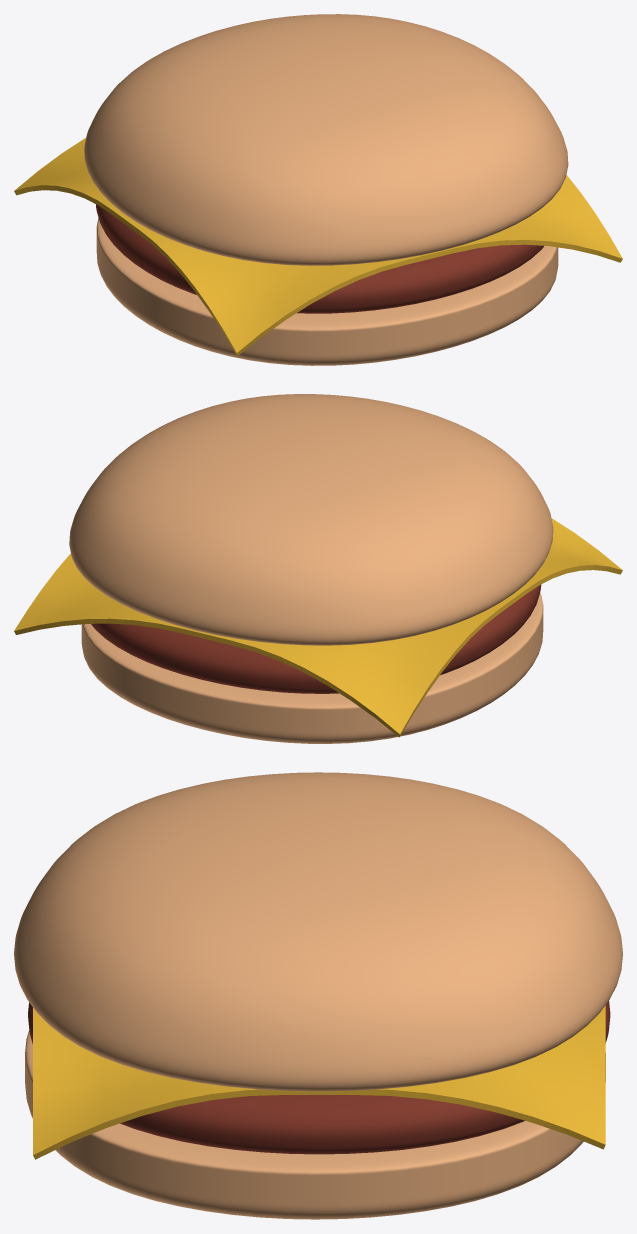
File: burger.glb
The picture shows the model from 3 angles, top to bottom: view 1: azimuth 30°, elevation 25°; view 2: azimuth 150°, elevation 25°; view 3: azimuth 270°, elevation 25°; orthographic projection. The views are drawn at different scales.
Parts seen in each view (by area): view 1: Cube.002, Cube, Plane, Cube.001; view 2: Cube.002, Cube, Plane, Cube.001; view 3: Cube.002, Cube, Plane, Cube.001.
Boxes of the visible parts, x1,y1,x2,y2 form: Cube.002: (84, 14, 568, 265); Cube: (96, 218, 558, 365); Plane: (14, 138, 622, 355); Cube.001: (96, 204, 543, 313); Cube.002: (69, 394, 553, 645); Cube: (81, 593, 543, 743); Plane: (14, 518, 622, 737); Cube.001: (91, 585, 541, 693); Cube.002: (14, 772, 622, 1091); Cube: (25, 1030, 605, 1219); Plane: (33, 1005, 605, 1159); Cube.001: (28, 1001, 610, 1154).
Size of the model in its own units: 9.03 by 4.68 by 9.03.
